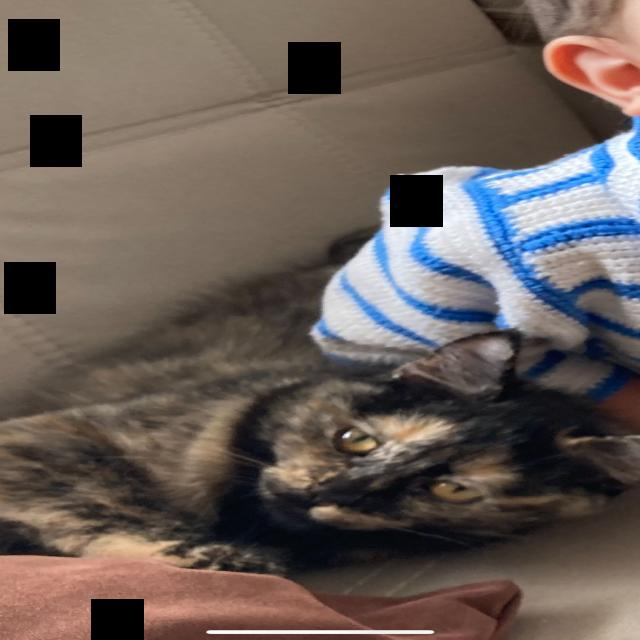authorized: (1, 224, 638, 577)
